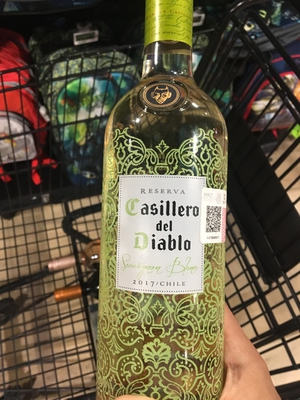casillero del diablo sauvignon blanc: (102, 12, 229, 400)
